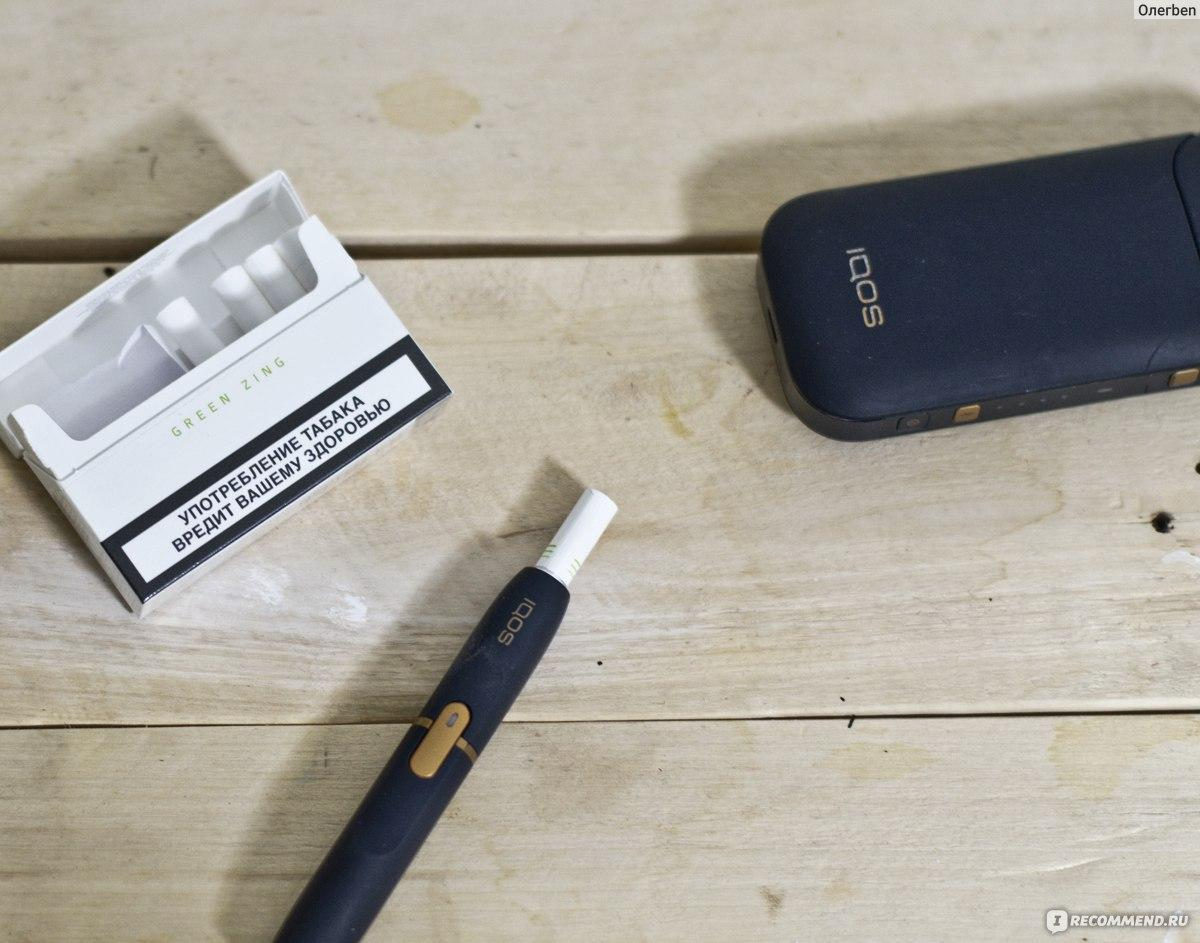iqos: (276, 489, 616, 942)
